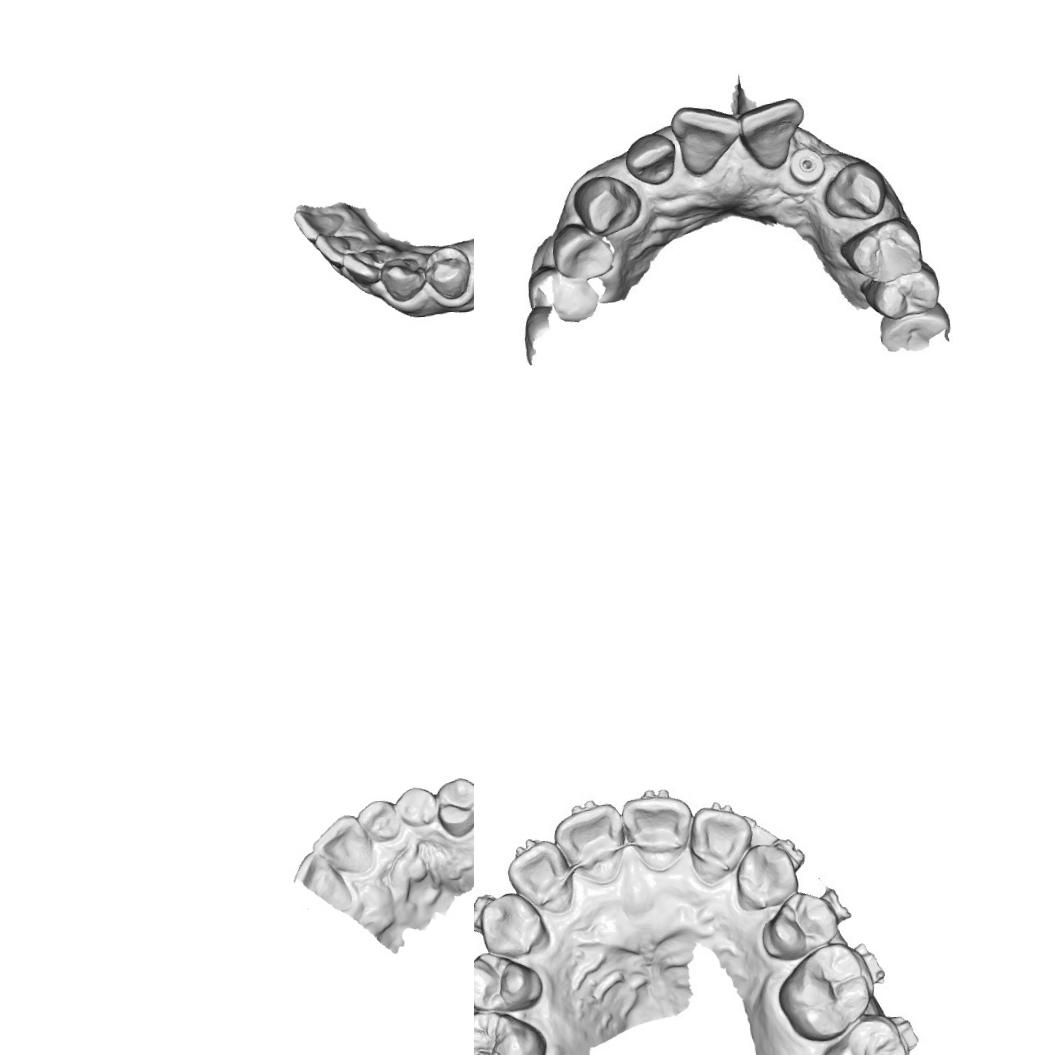canine: (729, 836, 803, 915), (476, 892, 548, 961), (574, 175, 644, 234), (824, 160, 886, 224), (377, 254, 428, 305), (392, 782, 438, 830)
implant: (788, 144, 826, 188)
incisor: (552, 804, 623, 884), (625, 791, 692, 871), (675, 101, 744, 175), (690, 804, 755, 880), (308, 810, 376, 878), (740, 97, 804, 169), (510, 840, 569, 910), (291, 847, 353, 913), (630, 132, 678, 185), (354, 796, 400, 844), (312, 229, 367, 268), (338, 246, 388, 288), (292, 205, 347, 243)
molar: (788, 943, 870, 1044), (816, 1011, 910, 1055), (474, 1006, 554, 1055)
premolar: (758, 892, 834, 964), (843, 221, 923, 284), (474, 949, 542, 1016), (552, 224, 615, 282), (421, 242, 473, 302), (873, 272, 938, 320), (434, 774, 474, 840)
